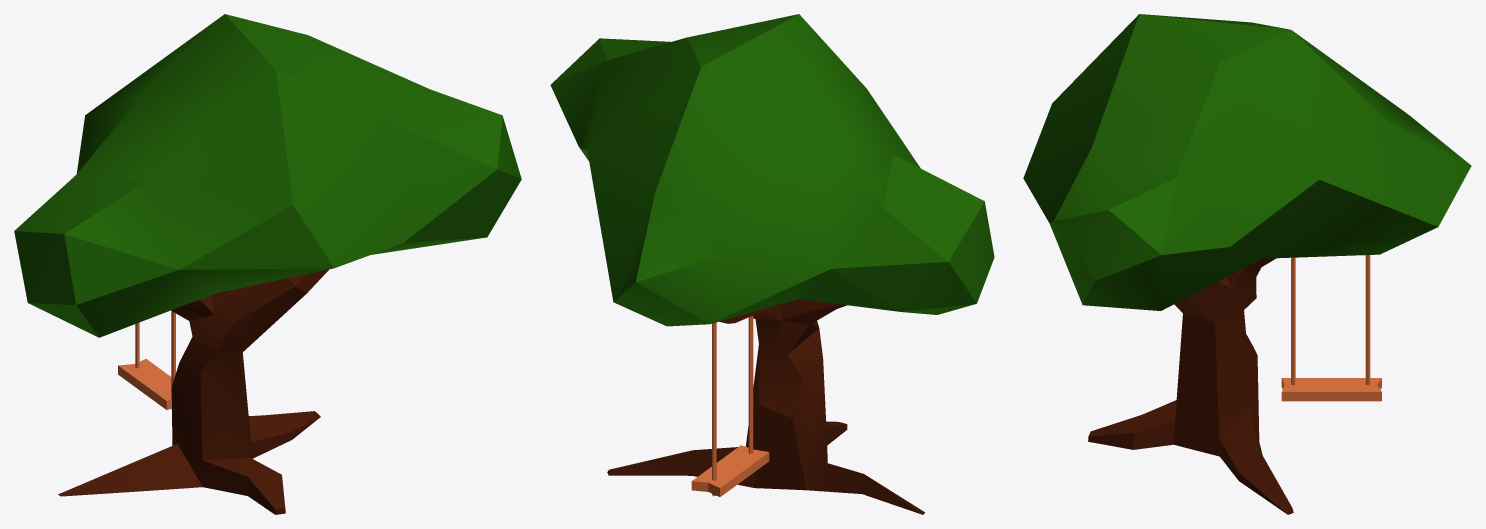
The model's file is TreeWSwingProxy_C.fbx.
3 renders of one model, left to right at view 1: azimuth 30°, elevation 25°; view 2: azimuth 150°, elevation 25°; view 3: azimuth 270°, elevation 25°, orthographic. The views are drawn at different scales.
Parts seen in each view (by area): view 1: TreeWSwingProxy; view 2: TreeWSwingProxy; view 3: TreeWSwingProxy.
Part boxes in pixels (x1=…): TreeWSwingProxy: x1=14, y1=14, x2=521, y2=514; TreeWSwingProxy: x1=550, y1=14, x2=994, y2=514; TreeWSwingProxy: x1=1023, y1=14, x2=1471, y2=514.
Bounding box in the file's own units: 776 × 712 × 655.
